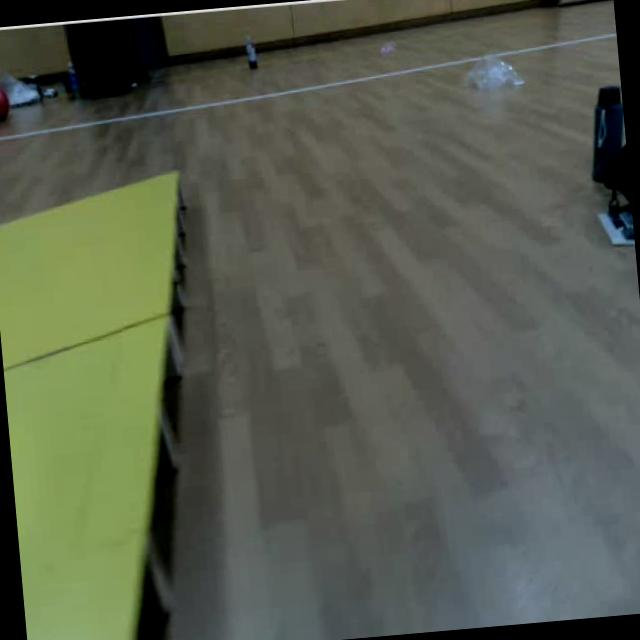red_ball: (0, 78, 9, 124)
